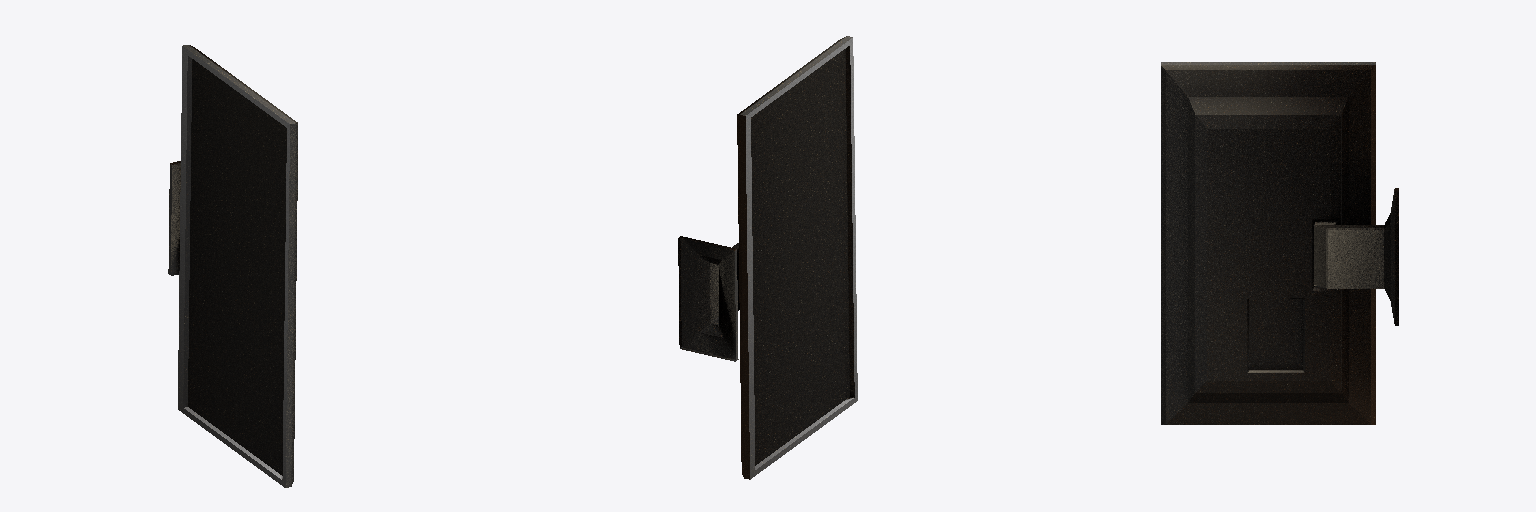
3 renders of one model, left to right at view 1: azimuth 30°, elevation 25°; view 2: azimuth 150°, elevation 25°; view 3: azimuth 270°, elevation 25°, orthographic.
Parts seen in each view (by area): view 1: led_tv_Mesh; view 2: led_tv_Mesh; view 3: led_tv_Mesh.
Boxes of the visible parts, <box> form: led_tv_Mesh: <box>168,45,297,487</box>; led_tv_Mesh: <box>678,36,857,479</box>; led_tv_Mesh: <box>1161,62,1398,424</box>.
Bounding box in the file's own units: 0.1648 × 0.9467 × 0.5646.
Materials: 2 (1 with a texture image).